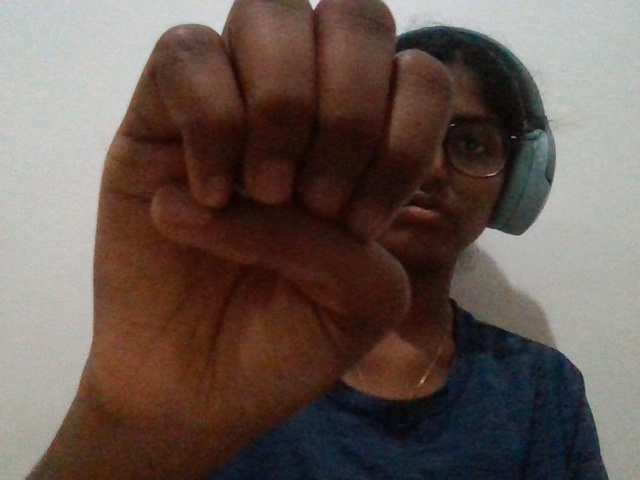E: (62, 1, 464, 480)
